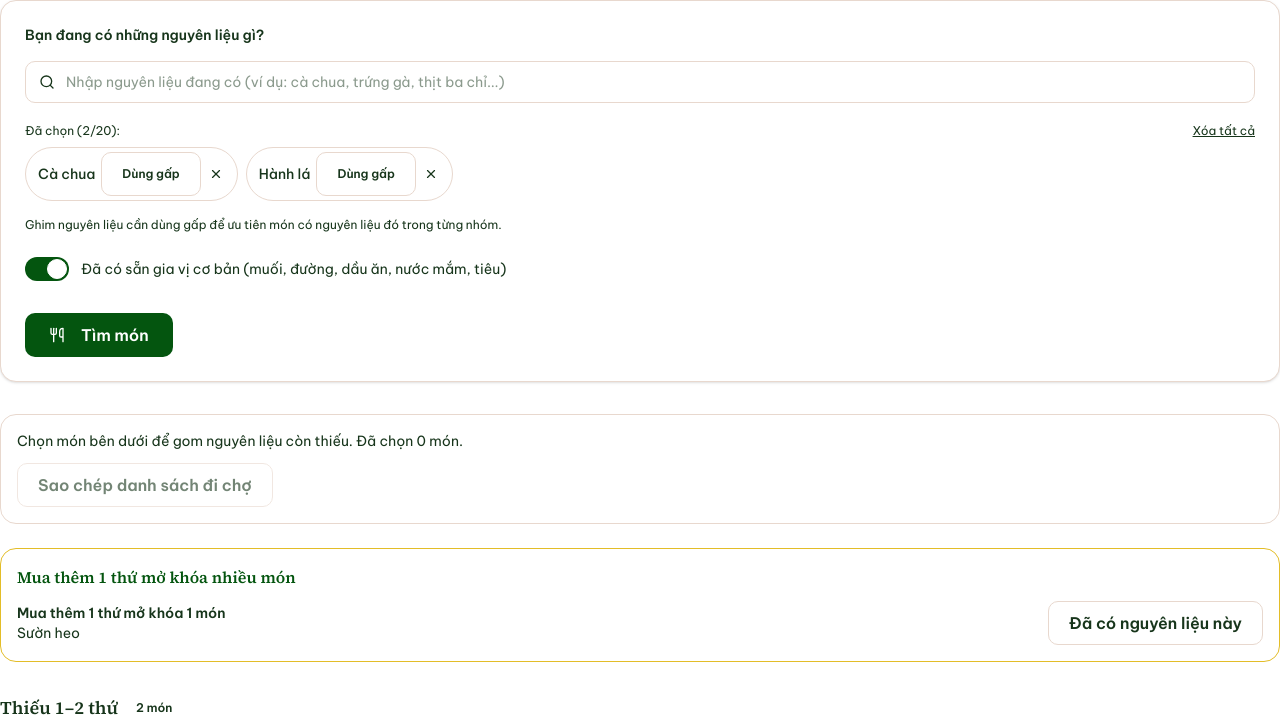
it: FE11 in the real FE09 tab › renders BE12 in the extension slot, hides empty results, and adds a bought ingredient canonically
Later steps or results of the test are not shown.
Check: the element named "Gợi ý mua thêm" shows "Mua thêm 1 thứ mở khóa 1 món", box [0, 548, 1279, 662]
Click the button with aria-label "Thêm Sườn heo vào nguyên liệu đang có" at (1156, 623), box [1048, 601, 1263, 645]
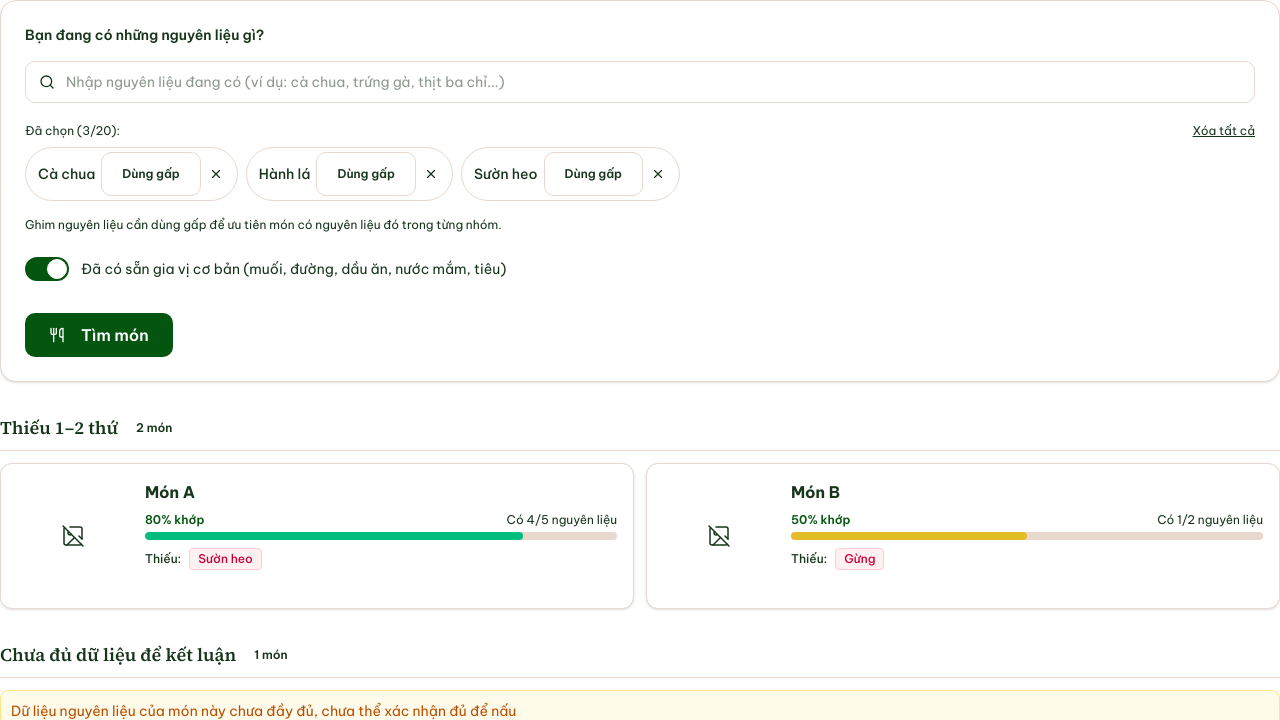
Check: the button named "Bỏ Sườn heo" is shown, box [649, 165, 667, 183]
